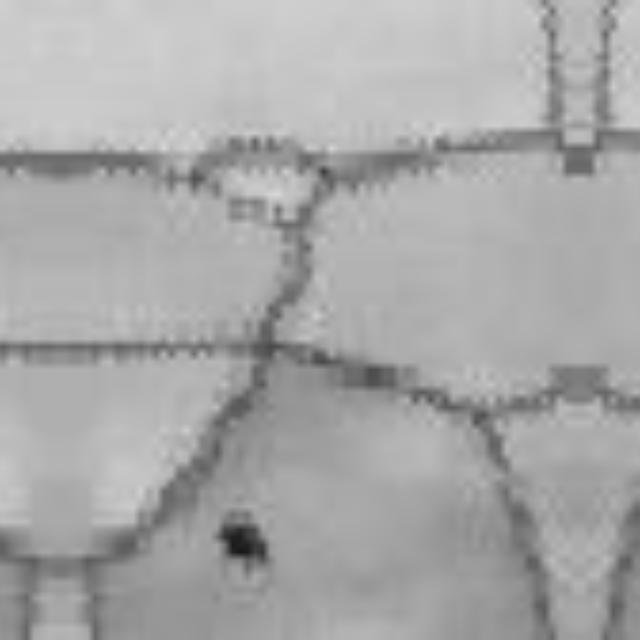good_void: (206, 498, 279, 583)
